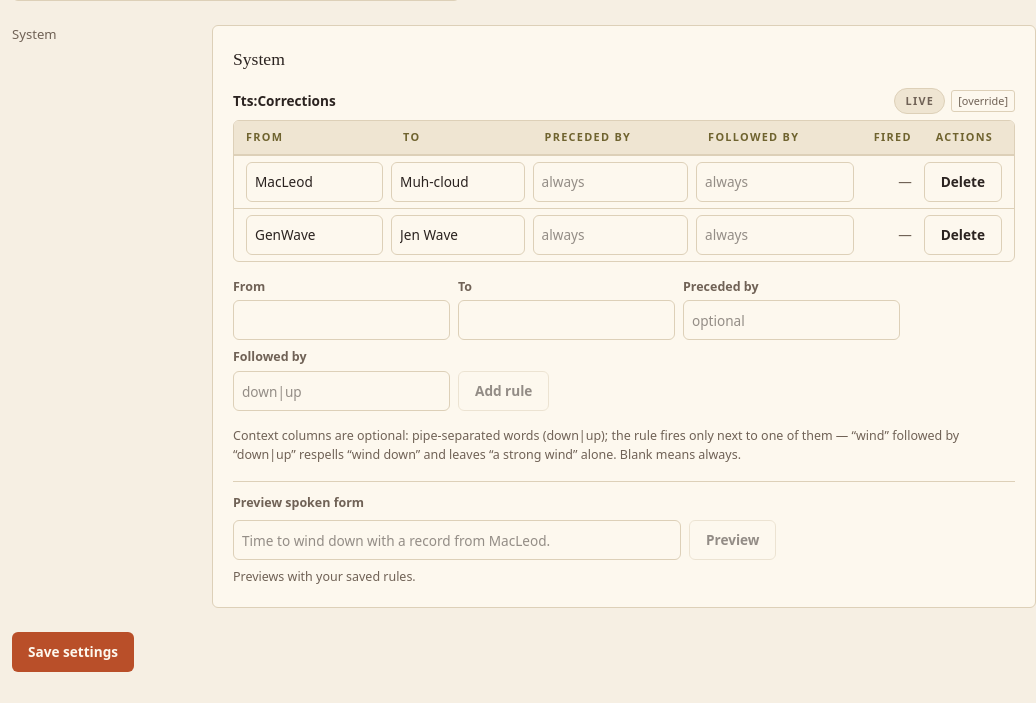
Test: Feature: Tts:Corrections staging is unmistakable › Scenario: the unsaved-changes badge tracks the staged rules › clears after a successful Save settings
Replace the text in the field named "To text for rule 1" with "Mick-loud" at {"x": 458, "y": 182}, box [391, 162, 525, 202]
(page scrolled)
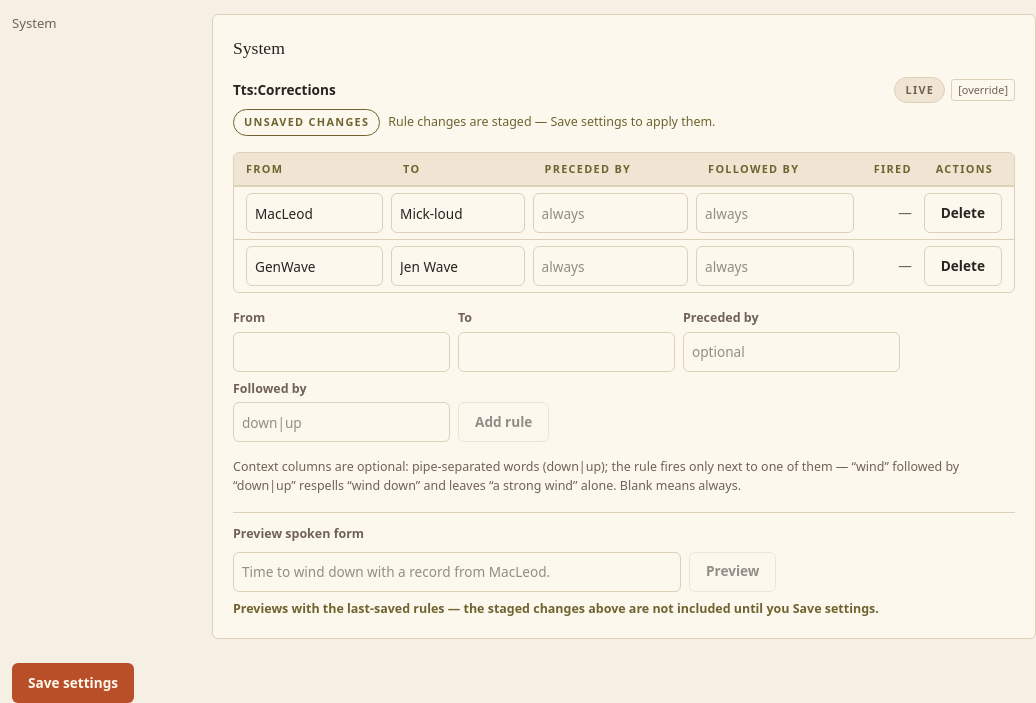
Click the button "Save settings" at {"x": 73, "y": 683}, box [12, 663, 134, 702]
(page scrolled)
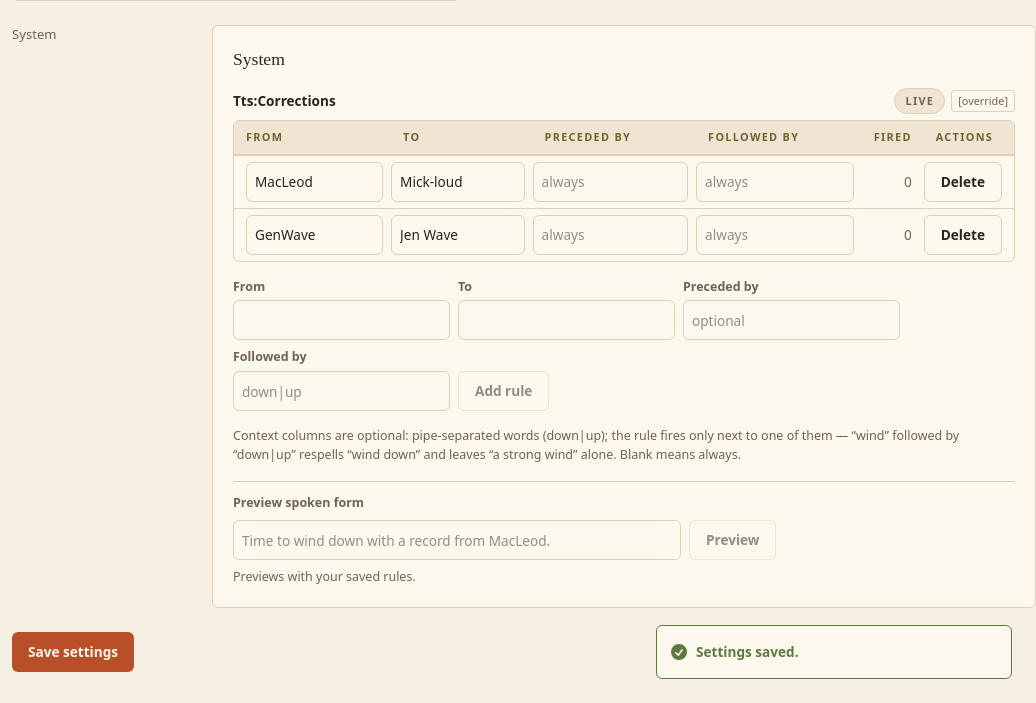
Expected: the message with test id "corrections-dirty-notice" is gone
